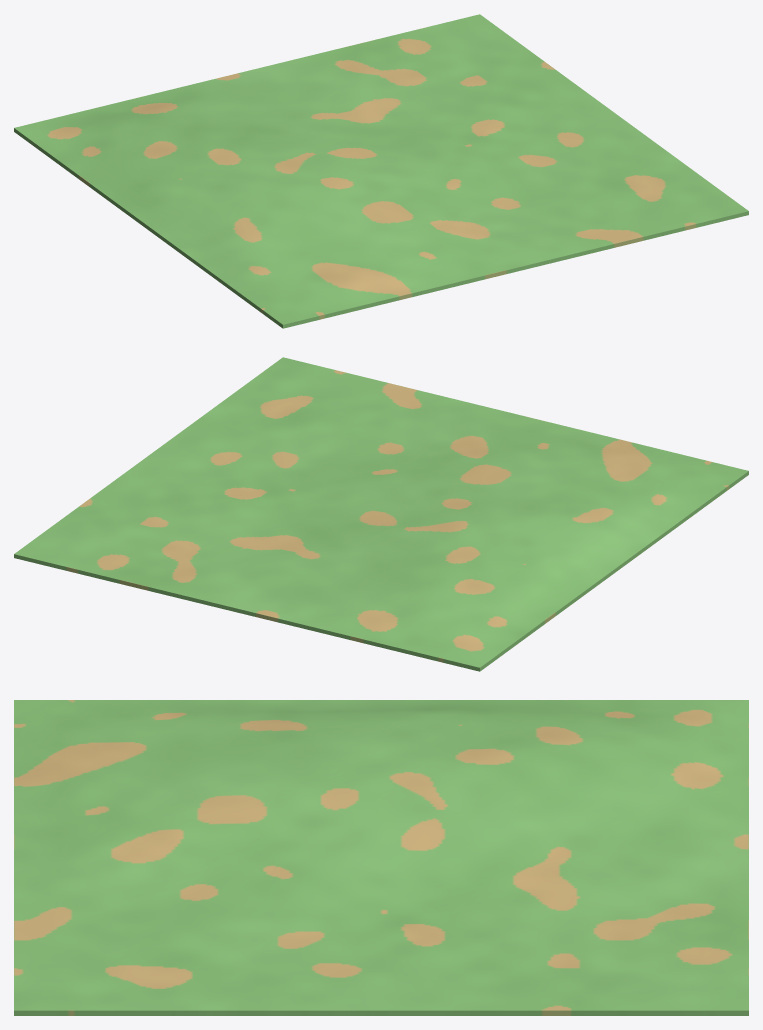
The model's file is Grass_Flat_05.obj.
The picture shows the model from 3 angles, top to bottom: view 1: azimuth 30°, elevation 25°; view 2: azimuth 150°, elevation 25°; view 3: azimuth 270°, elevation 25°; orthographic projection. The views are drawn at different scales.
Bounding box in the file's own units: 10 × 0.3849 × 10.
1 material, 1 textured.
